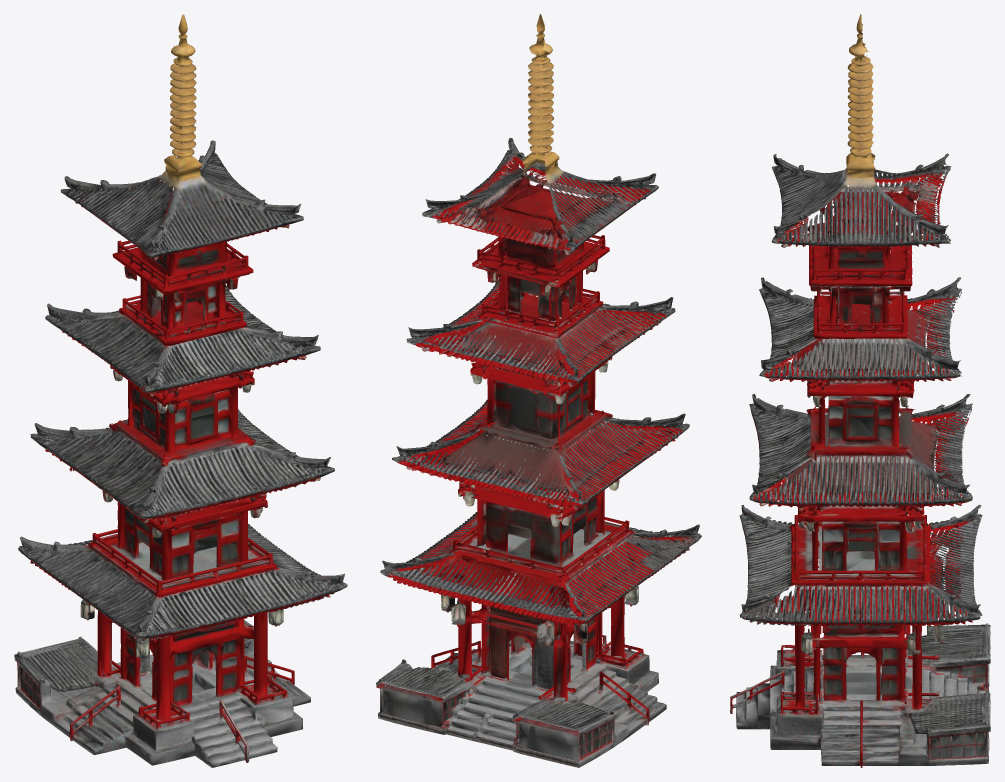
The model's file is temple_tower.glb.
3 views of the same model, side by side, from view 1: azimuth 30°, elevation 25°; view 2: azimuth 150°, elevation 25°; view 3: azimuth 270°, elevation 25° (orthographic). The views are drawn at different scales.
Bounding box in the file's own units: 0.6354 × 1.9 × 0.6426.
1 material, 1 textured.
